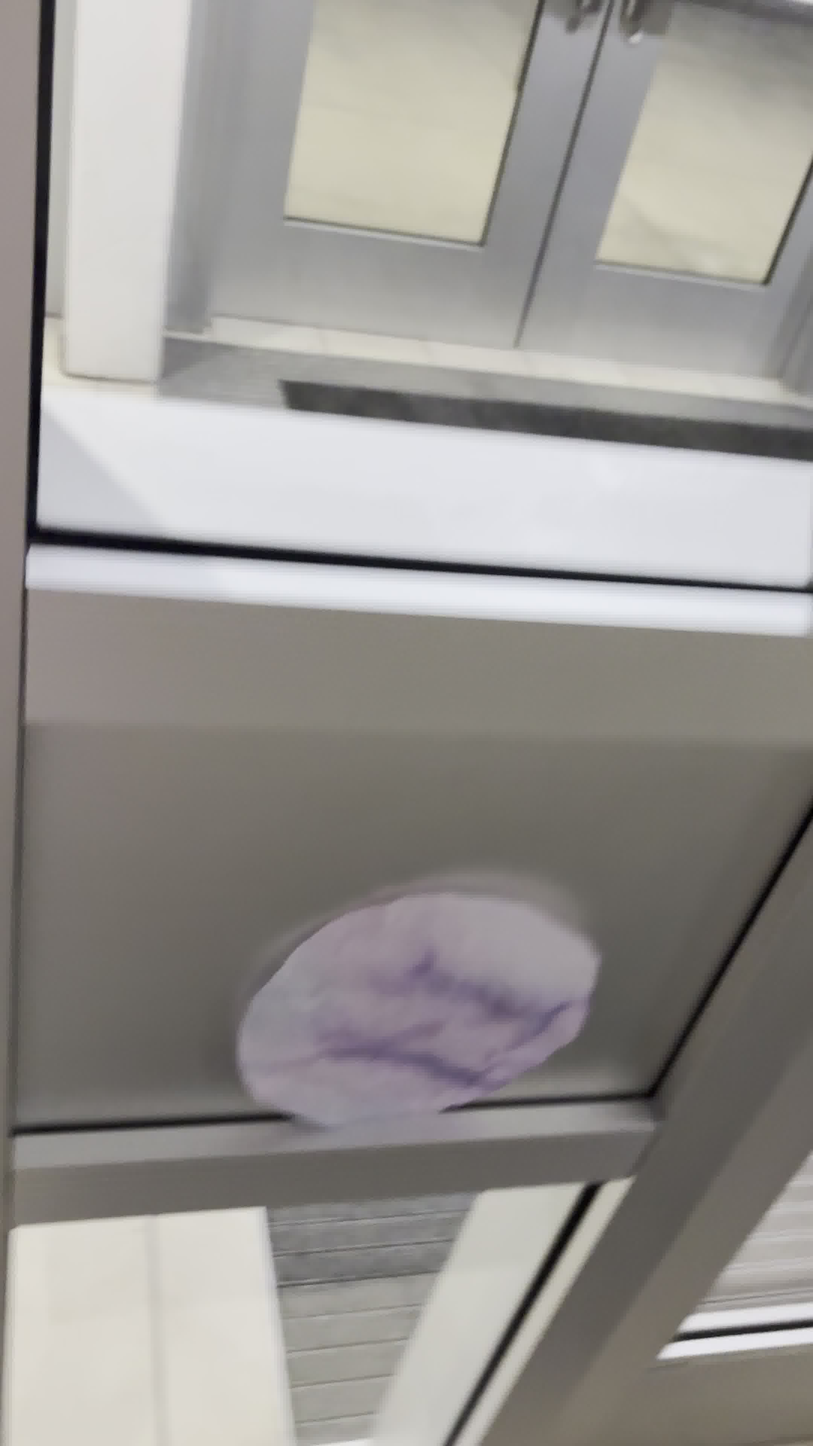Target: (229, 884, 613, 1138)
